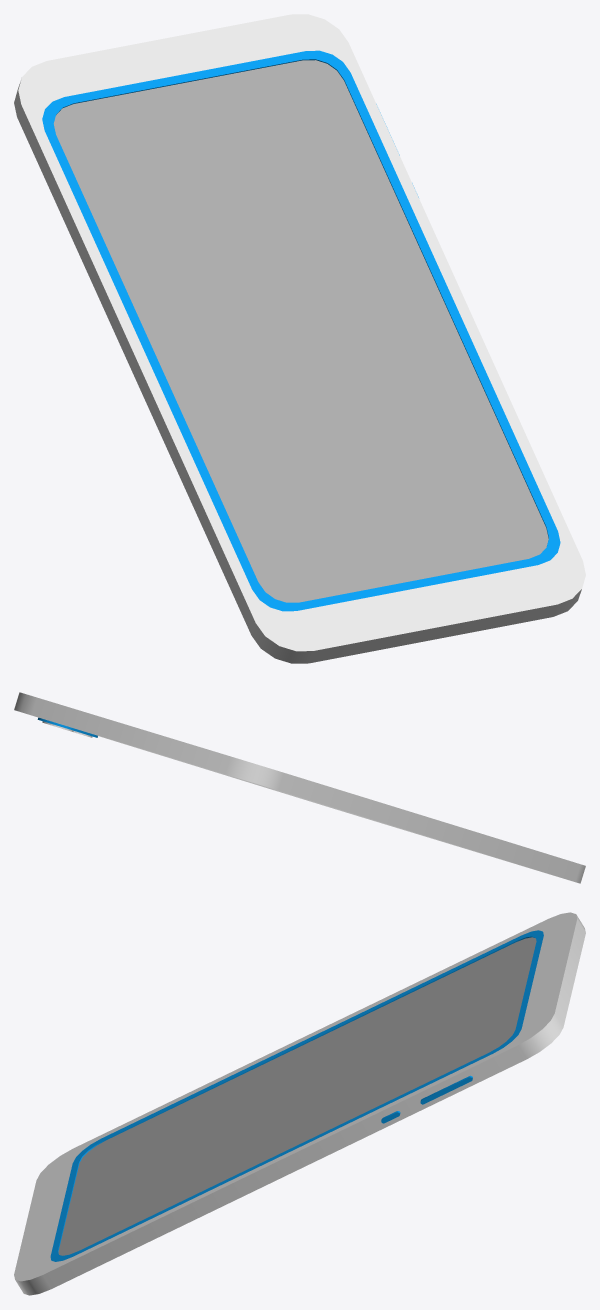
File: SM_Smartphones.fbx
The picture shows the model from 3 angles, top to bottom: view 1: azimuth 30°, elevation 25°; view 2: azimuth 150°, elevation 25°; view 3: azimuth 270°, elevation 25°; orthographic projection. The views are drawn at different scales.
Visible parts, largest first — view 1: Smartphone_screen, Smartphone_body, Smartphone_details; view 2: Smartphone_body; view 3: Smartphone_screen, Smartphone_body, Smartphone_details.
Part boxes in pixels (x1,y1,x2,y2): Smartphone_screen: [53, 60, 548, 602]; Smartphone_body: [14, 14, 585, 663]; Smartphone_details: [42, 50, 560, 611]; Smartphone_body: [14, 692, 585, 883]; Smartphone_screen: [58, 937, 536, 1255]; Smartphone_body: [14, 912, 585, 1295]; Smartphone_details: [50, 930, 543, 1261].
Size of the model in its own units: 13.82 by 13.08 by 22.74.
